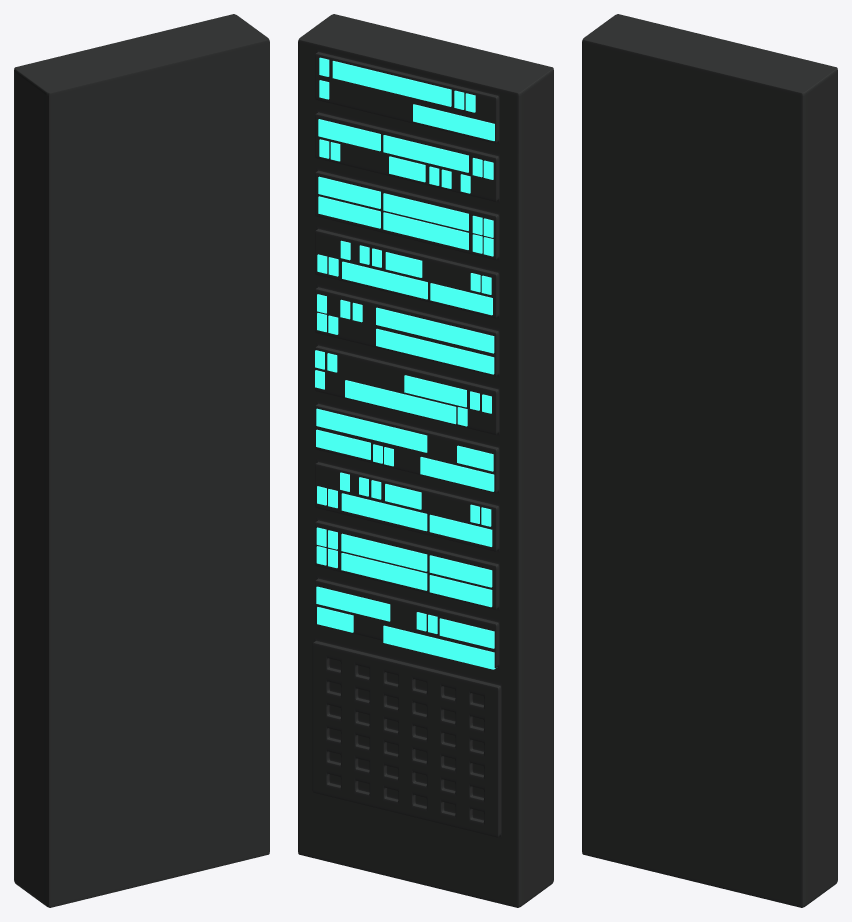
File: serveur.fbx
The picture shows the model from 3 angles, left to right: view 1: azimuth 30°, elevation 25°; view 2: azimuth 150°, elevation 25°; view 3: azimuth 330°, elevation 25°; orthographic projection.
Parts seen in each view (by area): view 1: Cube.006; view 2: Cube.006, Cube.007; view 3: Cube.006.
Boxes of the visible parts, x1,y1,x2,y2 form: Cube.006: (14,14,269,907); Cube.006: (298,14,553,907); Cube.007: (315,57,495,669); Cube.006: (582,14,837,907).
Size of the model in its own units: 411 by 1438 by 125.
